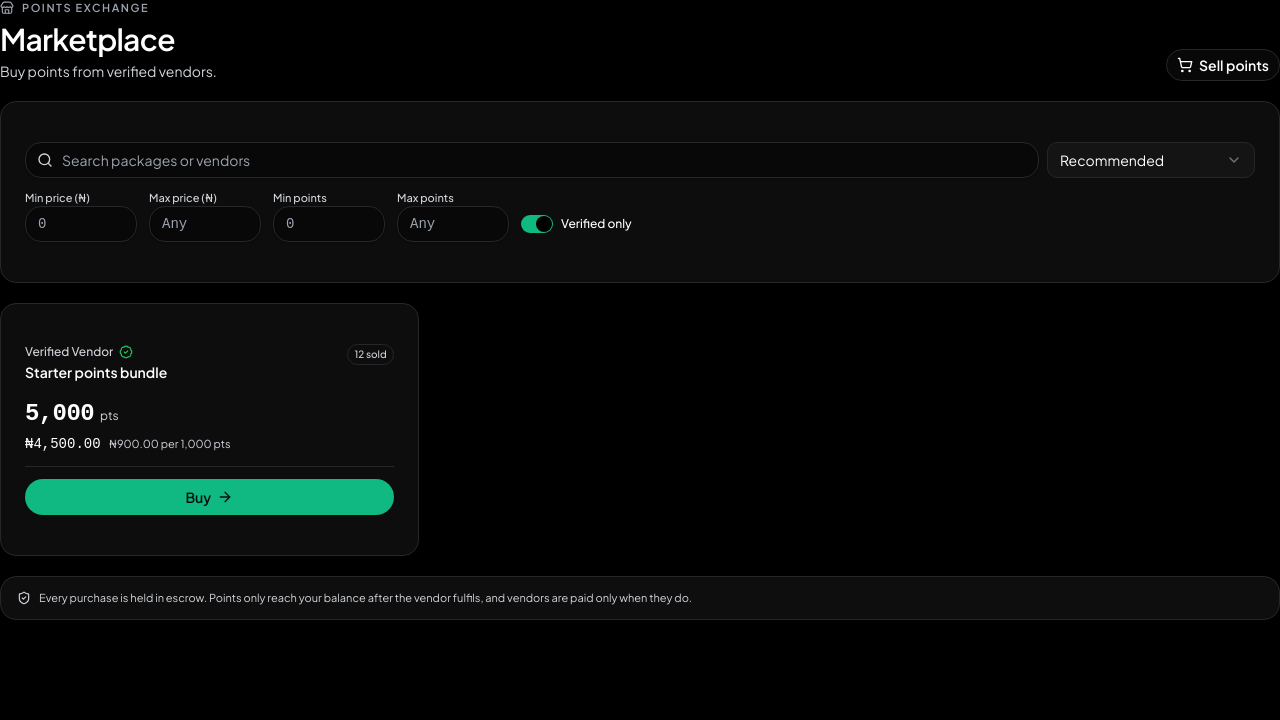
PointMarketplace checkout integration › Buy opens review with formatted package price and signed points
This screenshot has width=1280, height=720.
Click the button "Buy" at (209, 497), box [25,479,394,515]
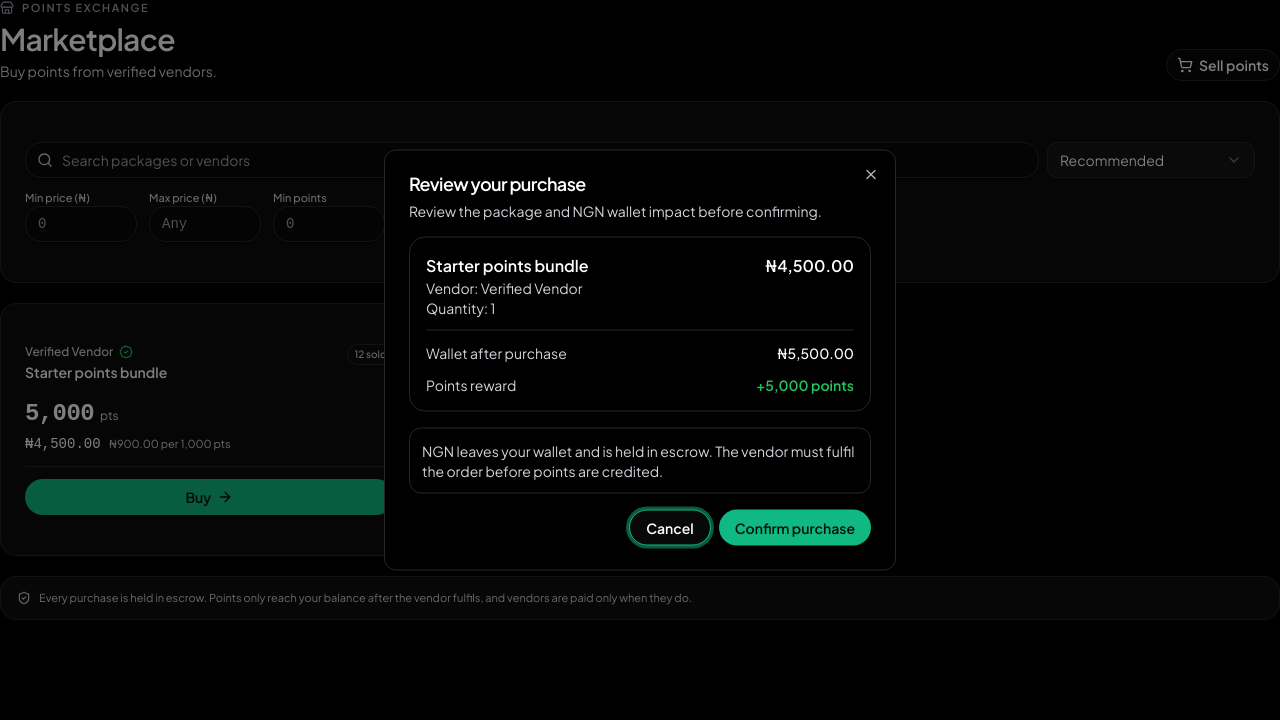
expect the text "₦4,500.00" is shown: met, box [765,254,854,278]
